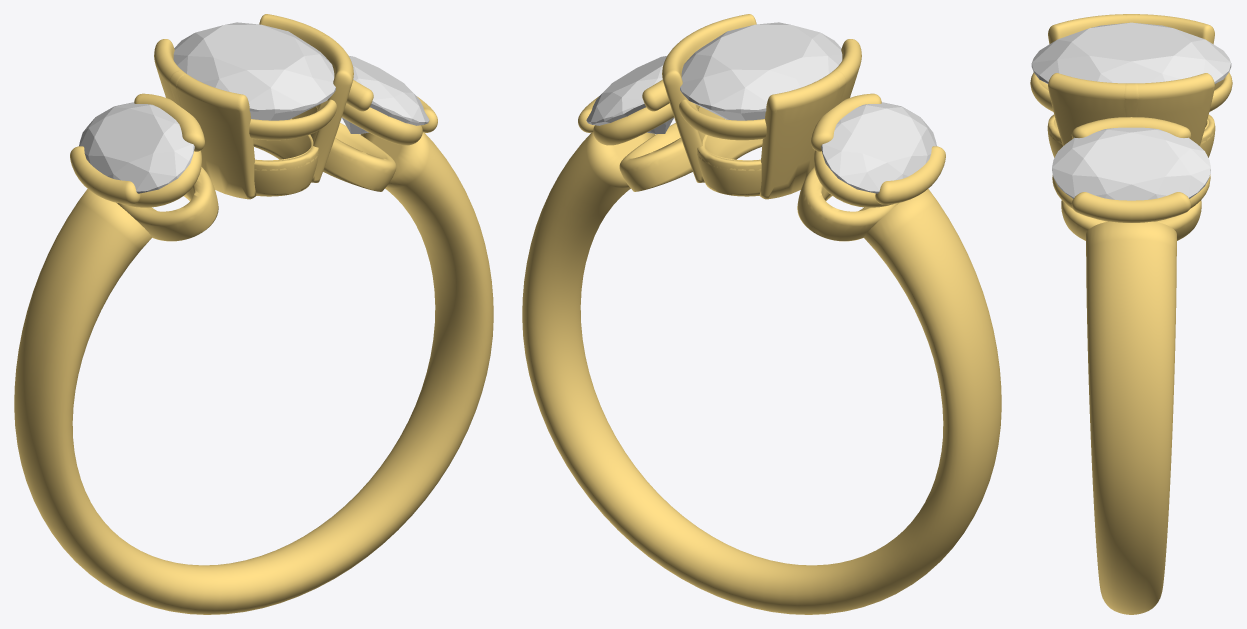
Rendered from diamond-oval-yellowgold-halfmoonbezel-taperedband-3stone.glb.
The picture shows the model from 3 angles, left to right: view 1: azimuth 30°, elevation 25°; view 2: azimuth 150°, elevation 25°; view 3: azimuth 270°, elevation 25°; orthographic projection.
Parts seen in each view (by area): view 1: metal, stone.003, side.006, side.007; view 2: metal, stone.003, side.006, side.007; view 3: metal, side.007, stone.003.
Part boxes in pixels (x1,y1,x2,y2): metal: [14, 14, 493, 614]; stone.003: [173, 22, 335, 120]; side.006: [79, 102, 194, 193]; side.007: [342, 56, 429, 133]; metal: [522, 14, 1001, 614]; stone.003: [680, 22, 842, 120]; side.006: [821, 102, 936, 193]; side.007: [586, 56, 673, 133]; metal: [1030, 14, 1232, 614]; side.007: [1052, 127, 1210, 200]; stone.003: [1031, 22, 1231, 83].
Bounding box in the file's own units: 20.1 × 23.2 × 7.75.
